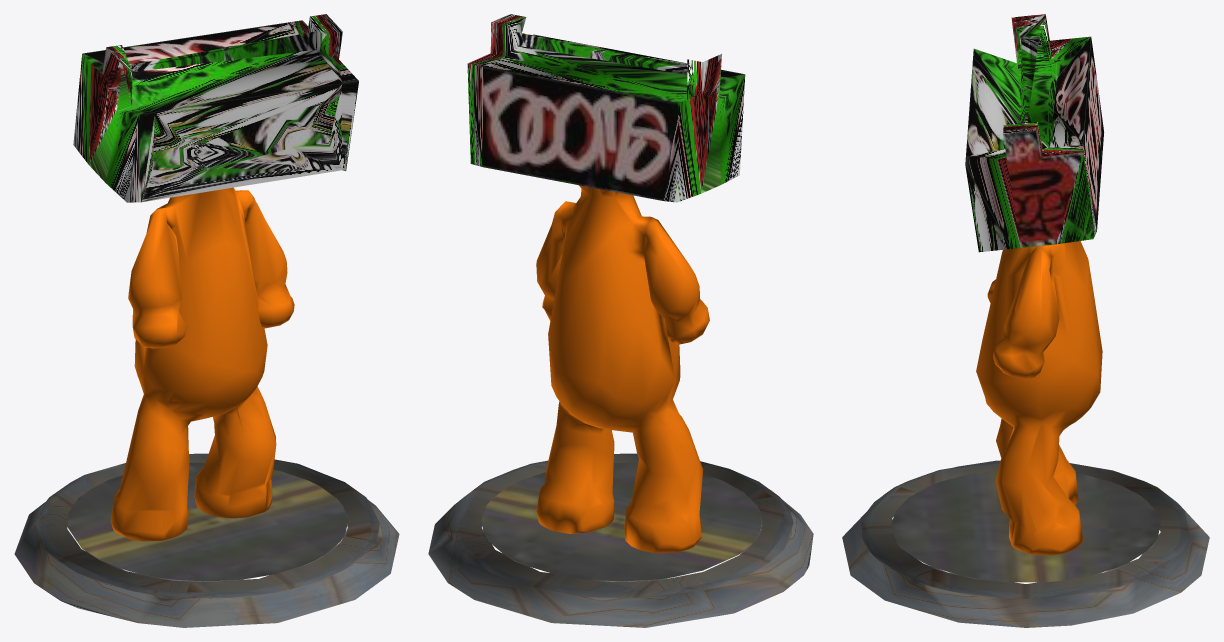
3 renders of one model, left to right at view 1: azimuth 30°, elevation 25°; view 2: azimuth 150°, elevation 25°; view 3: azimuth 270°, elevation 25°, orthographic. The views are drawn at different scales.
Size of the model in its own units: 1.45 by 2.12 by 1.43.
4 materials, 3 textured.
